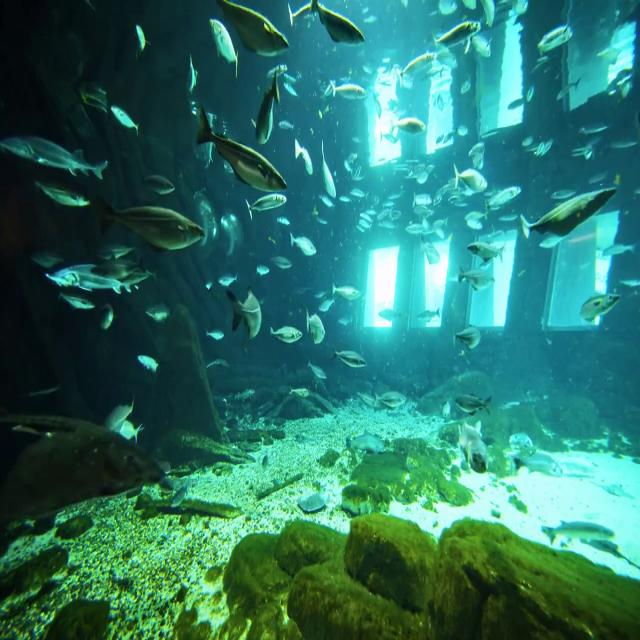fish: (188, 107, 291, 200), (0, 111, 114, 189), (95, 189, 205, 268), (515, 173, 619, 244), (207, 0, 290, 65), (288, 0, 378, 55), (215, 265, 272, 344), (27, 160, 100, 216), (41, 251, 122, 299), (435, 12, 495, 60), (105, 82, 146, 140), (446, 153, 494, 202), (316, 126, 344, 208), (467, 232, 511, 284), (581, 288, 625, 332), (78, 76, 119, 123), (449, 384, 499, 422), (260, 313, 304, 353), (536, 20, 582, 58), (301, 295, 327, 362), (103, 393, 144, 434), (326, 336, 366, 375), (448, 316, 486, 357), (292, 136, 322, 180), (130, 16, 158, 62), (146, 297, 178, 326), (124, 412, 144, 441)
